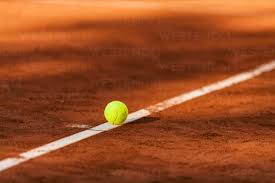tennis_ball: (104, 100, 128, 126)
